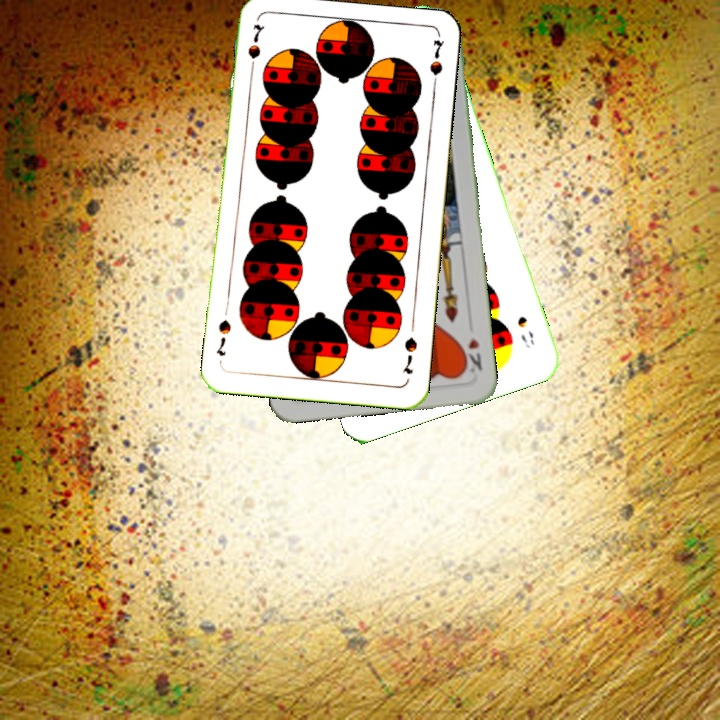HK: (458, 333, 485, 375)
S7: (243, 20, 266, 78), (397, 333, 420, 377)
S8: (513, 312, 536, 351)
